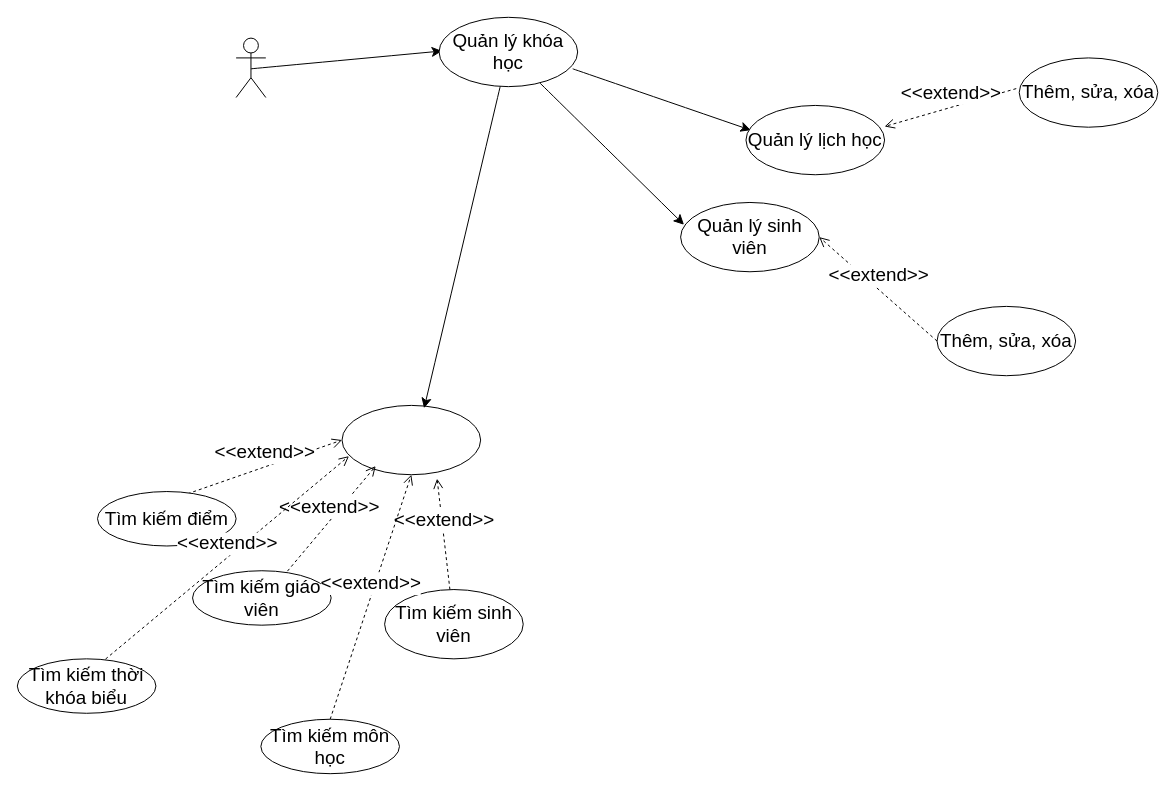
The diagram is 1175 pixels wide and 791 high, and some of its shapes have lost their labels. Here are the shapes that lost their labels. From the top down, the centre of each, then its label:
(x=250, y=67): Giảng viên
(x=411, y=439): Tìm kiếm
